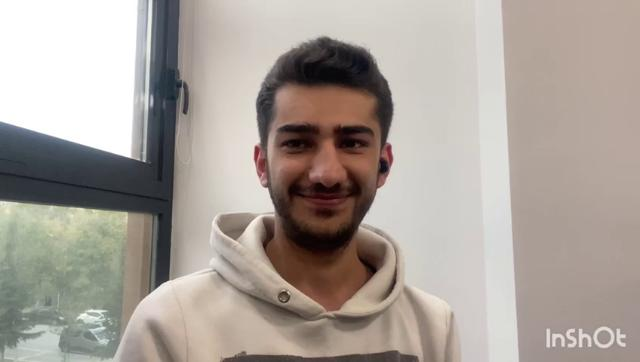senang: (264, 77, 389, 243)
